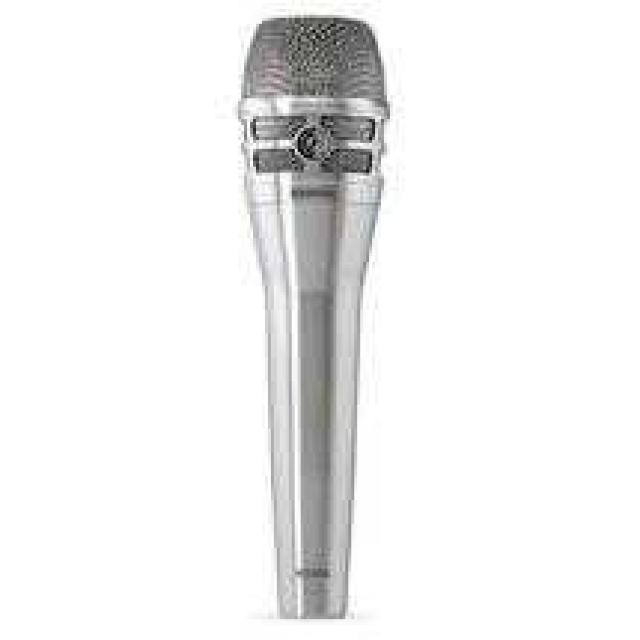microphone: (228, 10, 407, 597)
